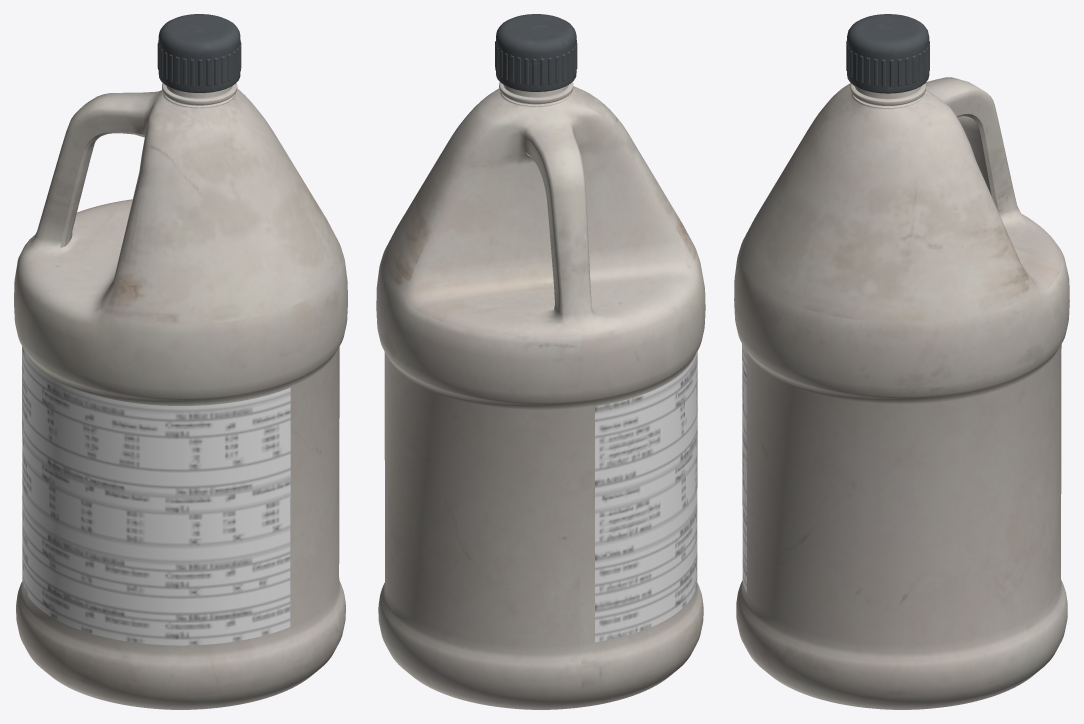
File: CleaningSolutionB.fbx
3 renders of one model, left to right at view 1: azimuth 30°, elevation 25°; view 2: azimuth 150°, elevation 25°; view 3: azimuth 270°, elevation 25°, orthographic.
Visible parts, largest first — view 1: KB3D_ECE_BldgIntMorgue_A_ChemicalContainerE; view 2: KB3D_ECE_BldgIntMorgue_A_ChemicalContainerE; view 3: KB3D_ECE_BldgIntMorgue_A_ChemicalContainerE.
Boxes of the visible parts, left/top/right/bottom form: KB3D_ECE_BldgIntMorgue_A_ChemicalContainerE: left=14, top=14, right=347, bottom=709; KB3D_ECE_BldgIntMorgue_A_ChemicalContainerE: left=376, top=14, right=705, bottom=709; KB3D_ECE_BldgIntMorgue_A_ChemicalContainerE: left=734, top=14, right=1069, bottom=709.
Size of the model in its own units: 28.94 by 60.78 by 28.94.
